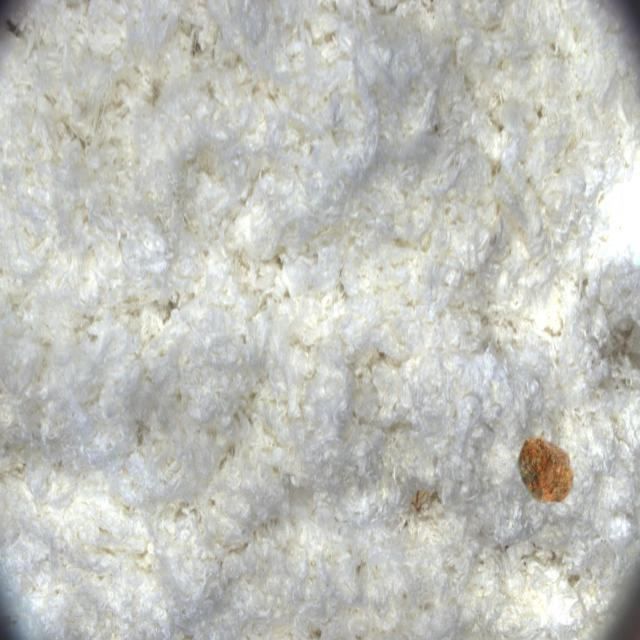dust: (494, 407, 607, 536)
